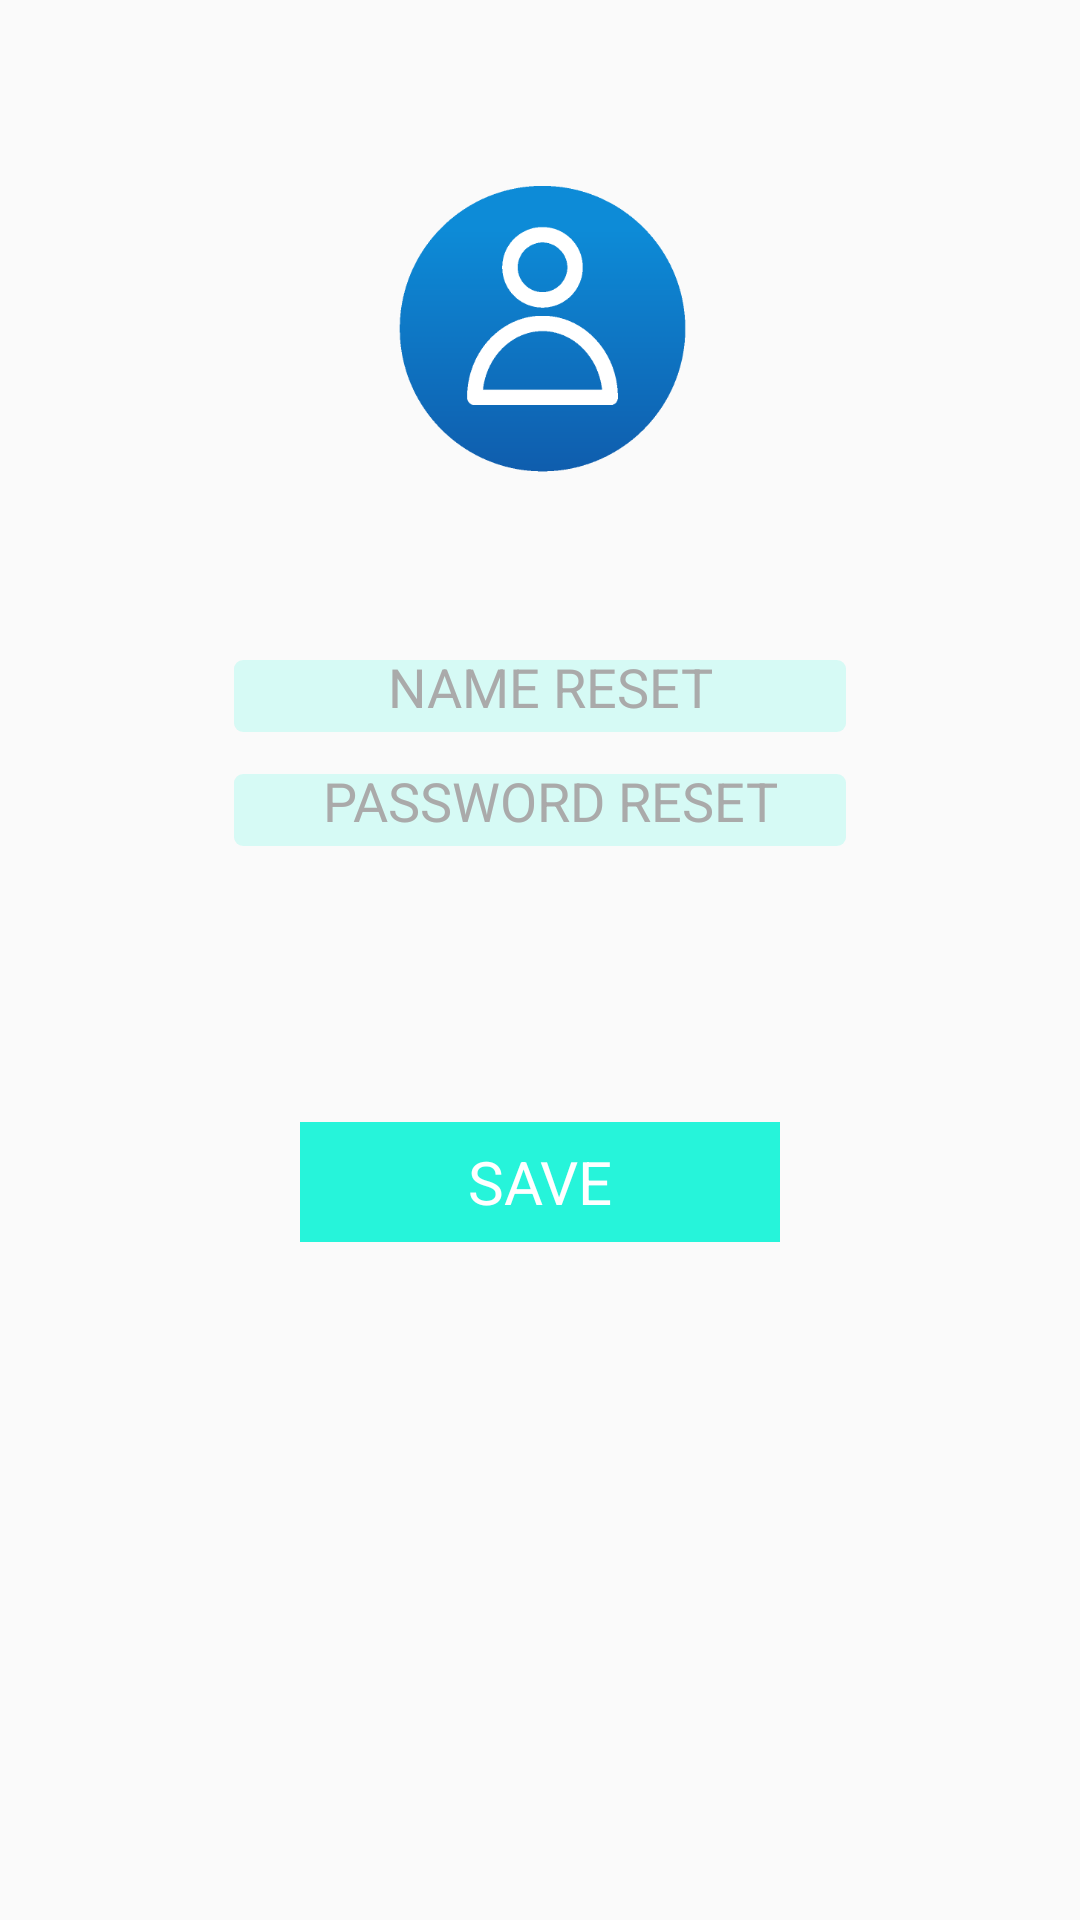

Where to tap for icons on this 1080 x 1920 app screen, as point (x, y):
profile: point (542, 329)
